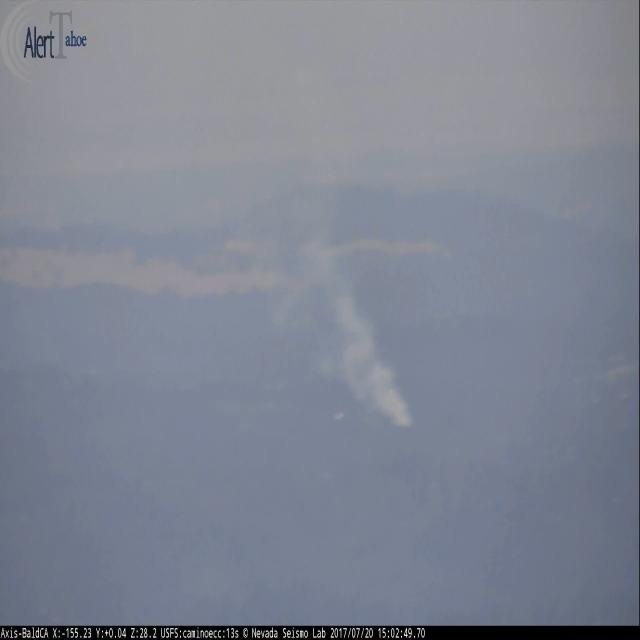smoke: (283, 236, 416, 427)
